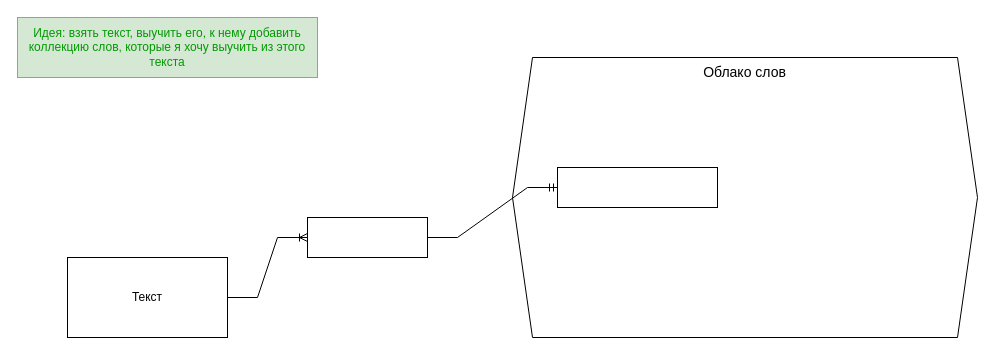
Some shapes in this 995 by 355 pixel diagram are drawn without their labels. Here are the shapes that lost their labels. From the top down, the box of each, then its label:
(556, 166, 718, 208): Слова
(306, 216, 428, 258): Связь
